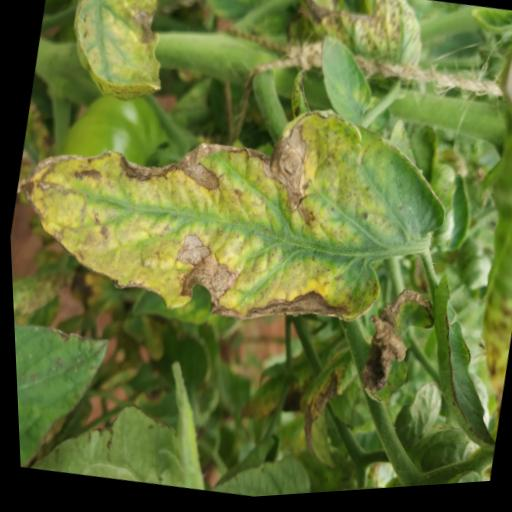Early Blight: (3, 48, 464, 371), (346, 283, 439, 420)
